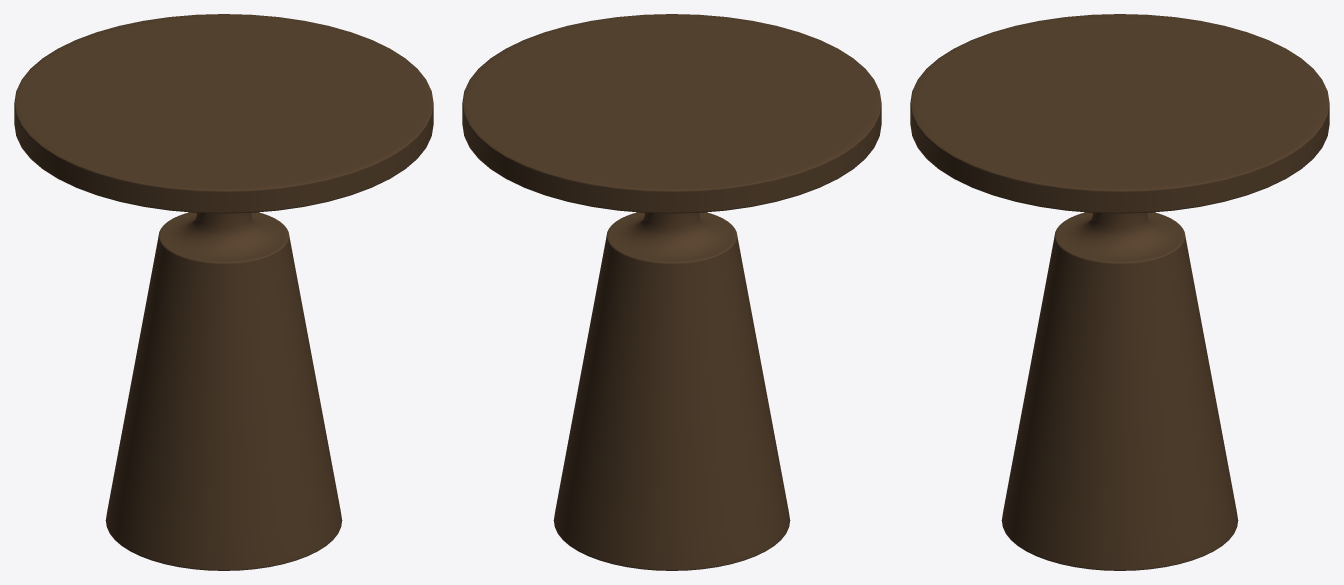
File: table.glb
3 renders of one model, left to right at view 1: azimuth 30°, elevation 25°; view 2: azimuth 150°, elevation 25°; view 3: azimuth 270°, elevation 25°, orthographic.
Visible parts, largest first — view 1: Wood side table; view 2: Wood side table; view 3: Wood side table.
Part boxes in pixels (box(x1,y1,x2,y2)): Wood side table: box(14, 14, 433, 570); Wood side table: box(462, 14, 881, 570); Wood side table: box(910, 14, 1329, 570).
Bounding box in the file's own units: 1.1 × 1.21 × 1.1.
